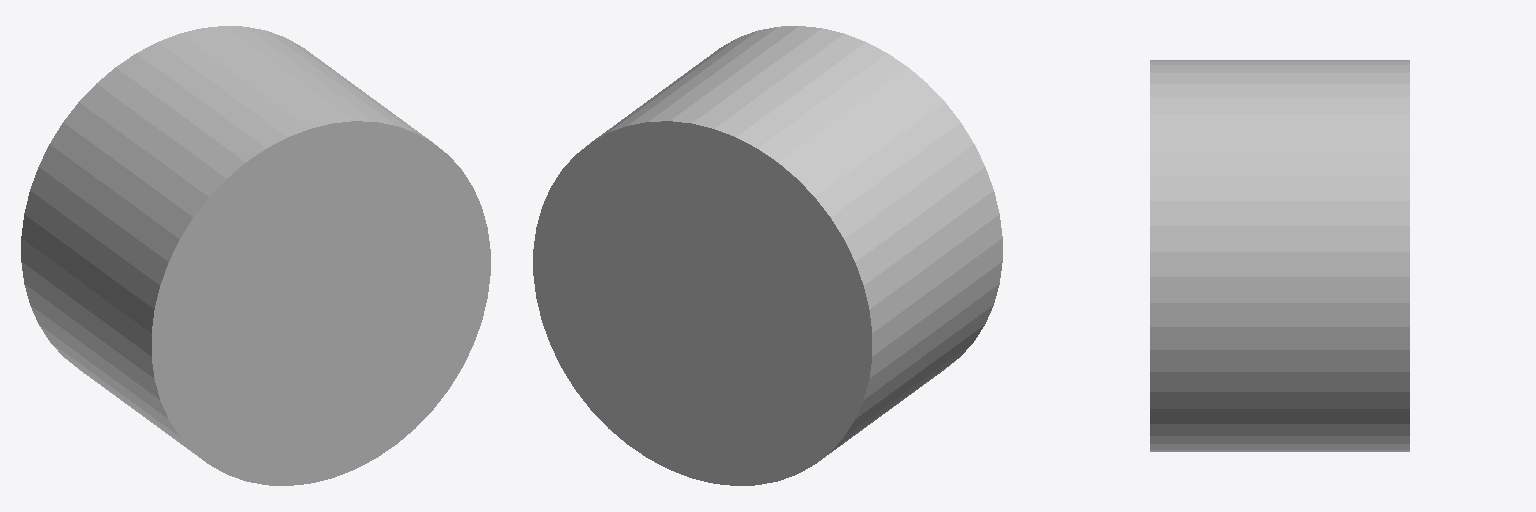
The model's file is gq70_tank_b.obj.
The picture shows the model from 3 angles: view 1: azimuth 30°, elevation 25°; view 2: azimuth 150°, elevation 25°; view 3: azimuth 270°, elevation 25°; orthographic projection.
Visible parts, largest first — view 1: sphere1; view 2: sphere1; view 3: sphere1.
Boxes of the visible parts, x1,y1,x2,y2 form: sphere1: [21, 26, 490, 485]; sphere1: [533, 26, 1002, 485]; sphere1: [1150, 60, 1409, 451].
Size of the model in its own units: 3.01 by 3.01 by 2.